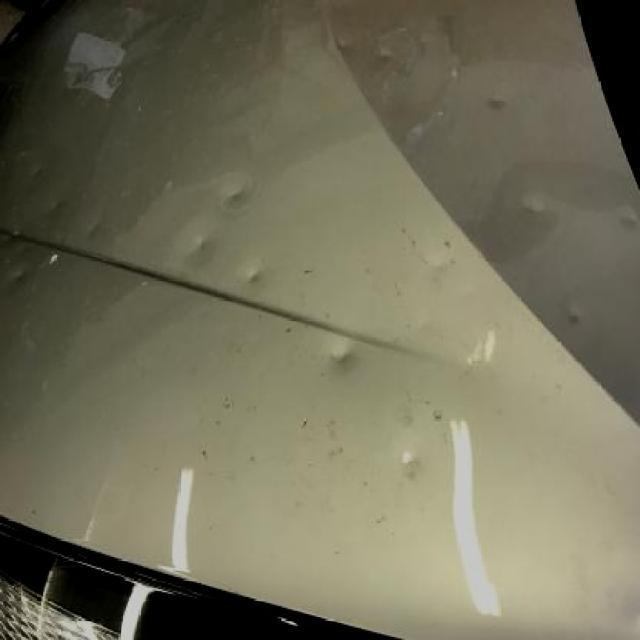dent: (186, 228, 214, 261), (222, 182, 250, 210), (326, 345, 354, 367), (522, 194, 548, 216), (397, 448, 420, 470), (243, 266, 265, 288), (565, 306, 585, 329), (426, 255, 448, 274), (85, 219, 102, 242), (6, 265, 25, 282), (46, 199, 65, 214), (32, 164, 43, 179)
